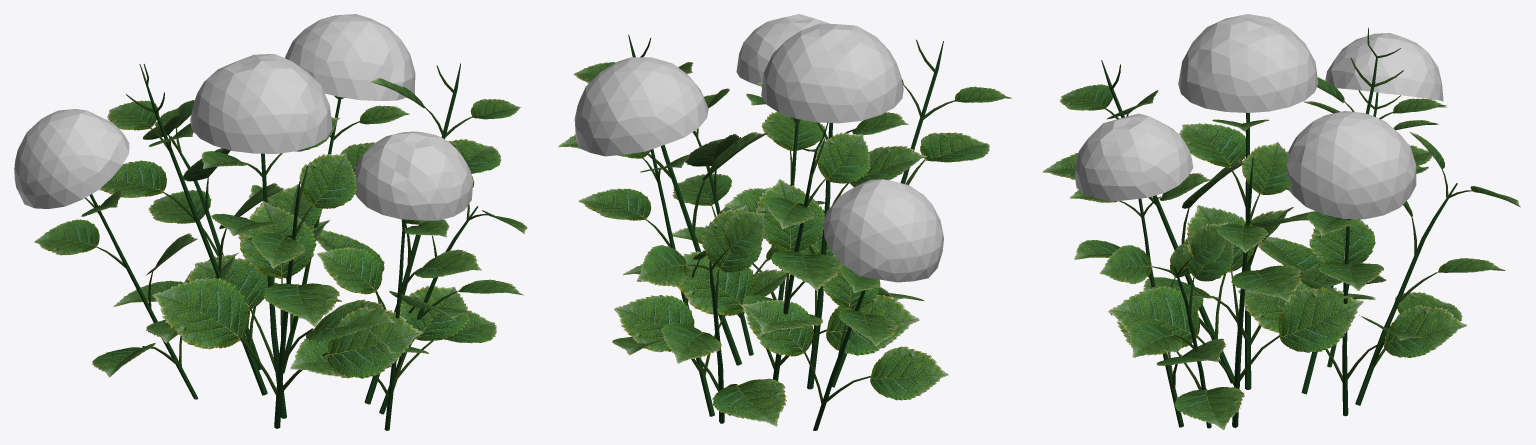
Rendered from hydrangea.obj.
The picture shows the model from 3 angles, left to right: view 1: azimuth 30°, elevation 25°; view 2: azimuth 150°, elevation 25°; view 3: azimuth 270°, elevation 25°; orthographic projection. The views are drawn at different scales.
Visible parts, largest first — view 1: Trunk.005, Hydrangea1, Trunk.004, Hydrangea1.002, Hydrangea1.003, Hydrangea1.001, Trunk, Trunk.001, Trunk.008, Trunk.003, Trunk.007, Trunk.006 (+1 smaller); view 2: Trunk.001, Trunk.007, Hydrangea1, Hydrangea1.003, Trunk.008, Hydrangea1.001, Trunk, Trunk.002, Trunk.005, Trunk.006, Trunk.003, Trunk.004 (+2 smaller); view 3: Trunk.003, Hydrangea1, Hydrangea1.001, Trunk.002, Trunk.006, Hydrangea1.002, Hydrangea1.003, Trunk, Trunk.005, Trunk.007, Trunk.004, Trunk.001 (+3 smaller).
Part boxes in pixels (x1,y1,x2,y2): Trunk.005: (152, 152, 423, 428); Hydrangea1: (190, 54, 332, 153); Trunk.004: (290, 219, 481, 430); Hydrangea1.002: (354, 131, 473, 220); Hydrangea1.003: (14, 109, 129, 208); Hydrangea1.001: (285, 14, 415, 100); Trunk: (187, 117, 394, 418); Trunk.001: (99, 64, 330, 395); Trunk.008: (34, 189, 238, 399); Trunk.003: (317, 63, 521, 404); Trunk.007: (113, 100, 261, 369); Trunk.006: (367, 176, 527, 414); Trunk.001: (677, 122, 919, 380); Trunk.007: (614, 205, 786, 426); Hydrangea1: (761, 23, 903, 122); Hydrangea1.003: (823, 179, 943, 282); Trunk.008: (741, 255, 948, 430); Hydrangea1.001: (574, 57, 708, 151); Trunk: (724, 82, 927, 389); Trunk.002: (578, 149, 786, 416); Trunk.005: (811, 39, 1011, 387); Trunk.006: (622, 88, 781, 355); Trunk.003: (558, 34, 771, 365); Trunk.004: (672, 93, 824, 300); Trunk.003: (1108, 142, 1363, 427); Hydrangea1: (1178, 14, 1318, 112); Hydrangea1.001: (1287, 111, 1415, 218); Trunk.002: (1237, 211, 1467, 416); Trunk.006: (1099, 221, 1244, 429); Hydrangea1.002: (1075, 113, 1193, 200); Hydrangea1.003: (1327, 33, 1443, 100); Trunk: (1143, 113, 1364, 389); Trunk.005: (1042, 60, 1293, 383); Trunk.007: (1355, 132, 1520, 405); Trunk.004: (1069, 173, 1226, 427); Trunk.001: (1258, 27, 1446, 394).
Size of the model in its own units: 79.79 by 64.94 by 78.2.
